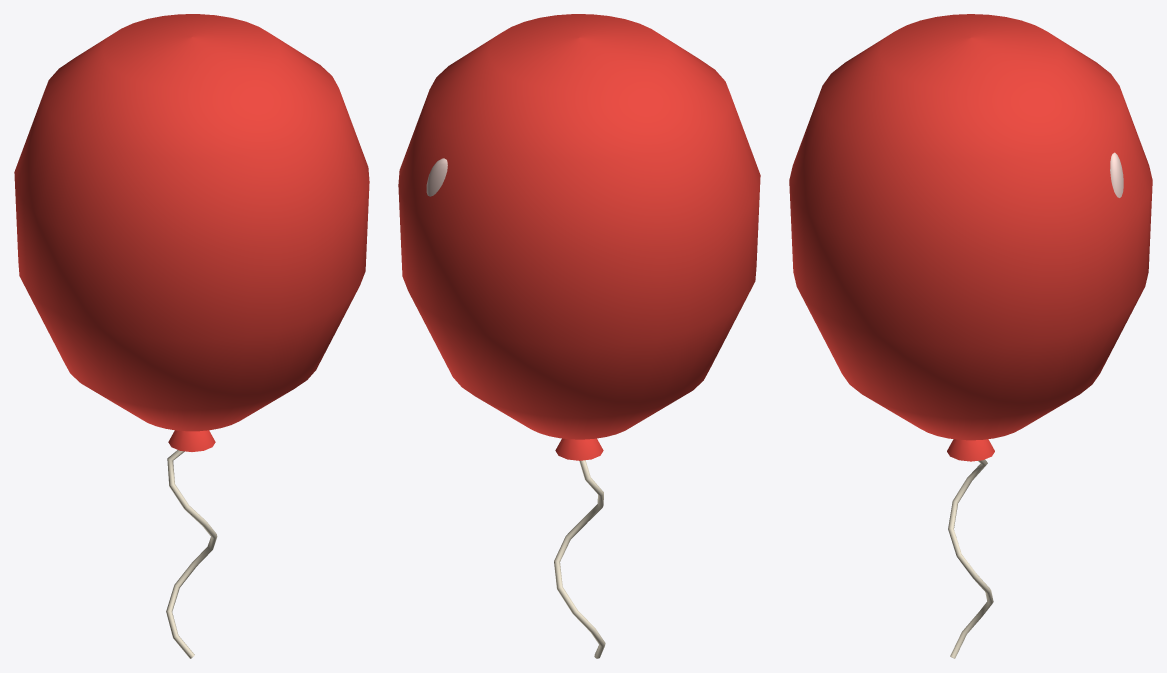
Rendered from piece_balloon.fbx.
3 renders of one model, left to right at view 1: azimuth 30°, elevation 25°; view 2: azimuth 150°, elevation 25°; view 3: azimuth 270°, elevation 25°, orthographic. The views are drawn at different scales.
Visible parts, largest first — view 1: piece_balloon; view 2: piece_balloon; view 3: piece_balloon.
Part boxes in pixels (left/top/right/bottom): piece_balloon: left=14, top=14, right=369, bottom=658; piece_balloon: left=398, top=14, right=760, bottom=658; piece_balloon: left=789, top=14, right=1152, bottom=658.
Size of the model in its own units: 0.18 by 0.3419 by 0.18.
